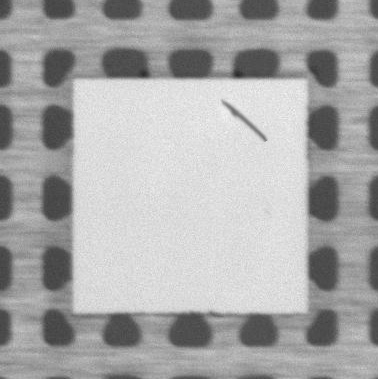DIE_INK: (214, 96, 270, 146)
